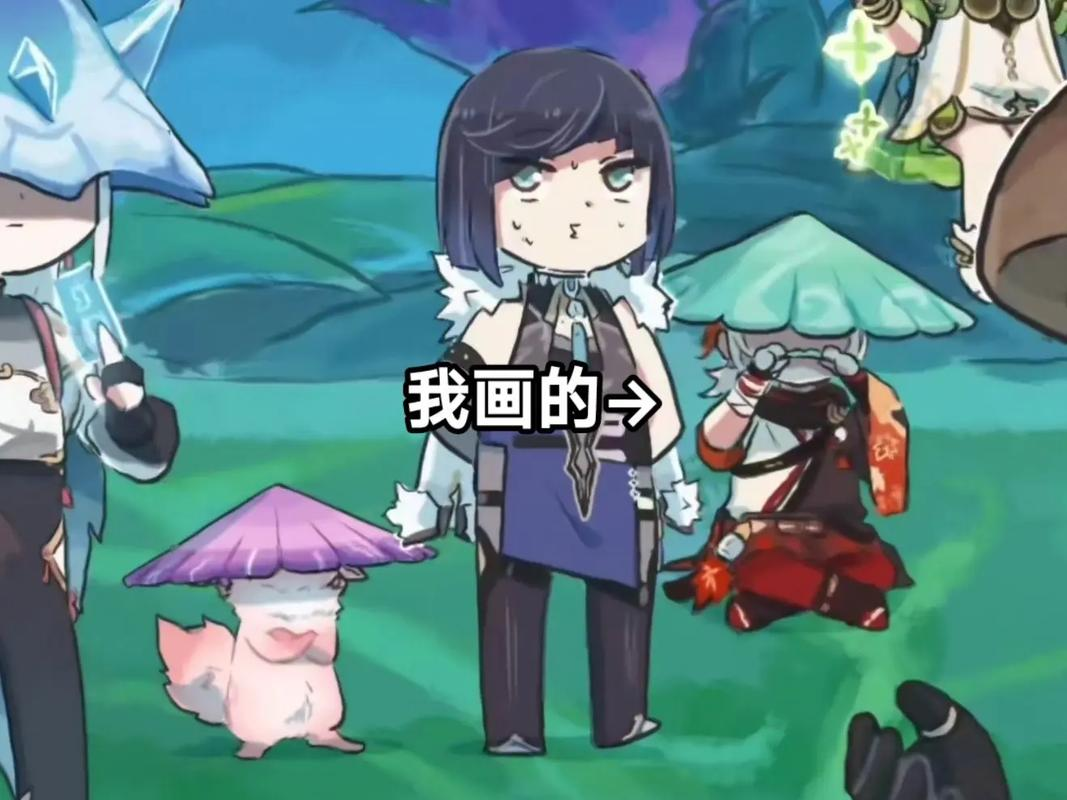夜兰: (393, 45, 684, 771)
